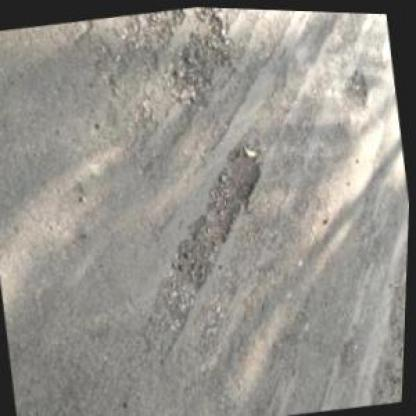pothole: (150, 126, 283, 296), (153, 4, 241, 114), (139, 6, 191, 52), (333, 62, 374, 112)
